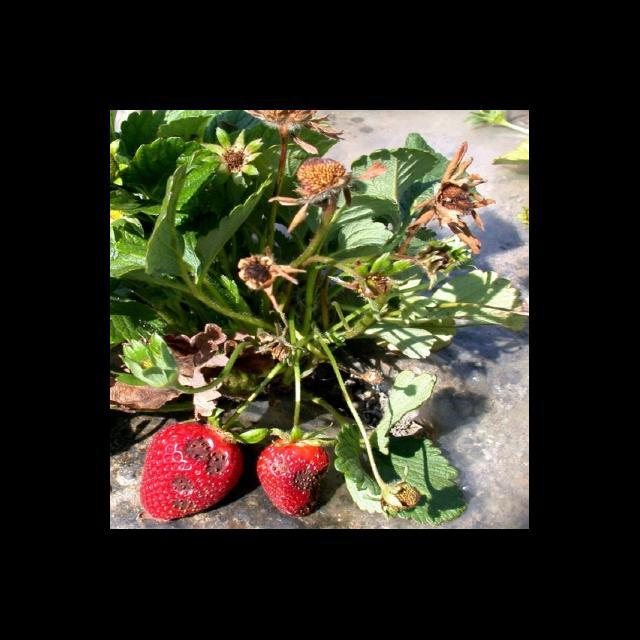Anthracnose Fruit Rot: (168, 436, 232, 512), (268, 457, 329, 518)
